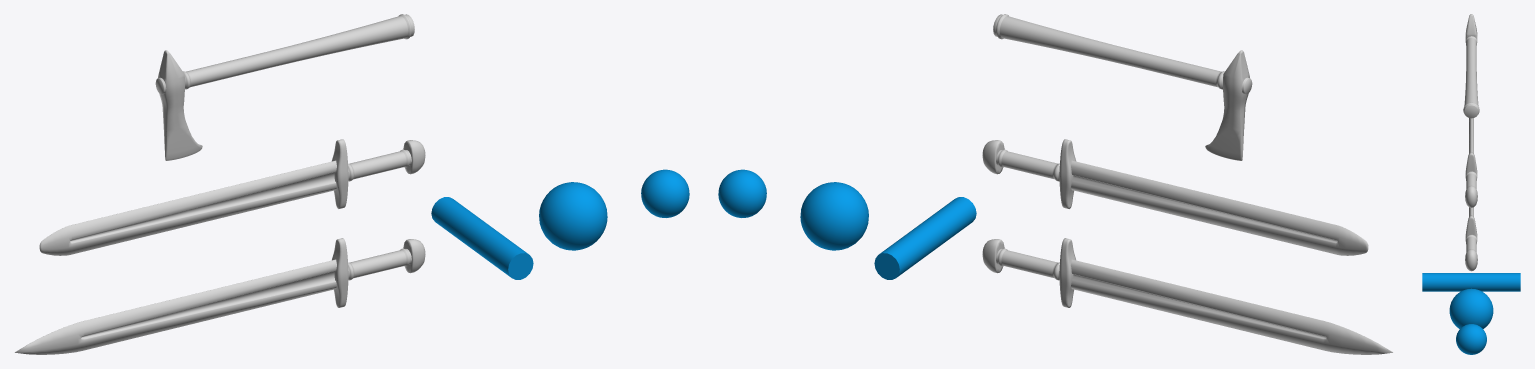
3 renders of one model, left to right at view 1: azimuth 30°, elevation 25°; view 2: azimuth 150°, elevation 25°; view 3: azimuth 270°, elevation 25°, orthographic. The views are drawn at different scales.
Visible parts, largest first — view 1: Sword, Sword_wooden, Axe, sphere, stick, sphere_small; view 2: Sword, Sword_wooden, Axe, sphere, stick, sphere_small; view 3: stick, sphere, Axe, sphere_small, Sword_wooden, Sword.
Part boxes in pixels (bbox=[...]): Sword: bbox=[15, 238, 425, 354]; Sword_wooden: bbox=[39, 139, 425, 255]; Axe: bbox=[155, 14, 414, 160]; sphere: bbox=[539, 182, 607, 250]; stick: bbox=[431, 197, 533, 279]; sphere_small: bbox=[641, 169, 689, 217]; Sword: bbox=[982, 238, 1392, 354]; Sword_wooden: bbox=[982, 139, 1368, 255]; Axe: bbox=[993, 14, 1252, 160]; sphere: bbox=[800, 182, 868, 250]; stick: bbox=[874, 197, 976, 279]; sphere_small: bbox=[718, 169, 766, 217]; stick: bbox=[1422, 273, 1520, 291]; sphere: bbox=[1449, 288, 1493, 328]; Axe: bbox=[1463, 14, 1479, 118]; sphere_small: bbox=[1456, 324, 1486, 354]; Sword_wooden: bbox=[1465, 118, 1477, 207]; Sword: bbox=[1465, 207, 1477, 271].
Size of the model in its own units: 1.07 by 0.4535 by 0.2109.
